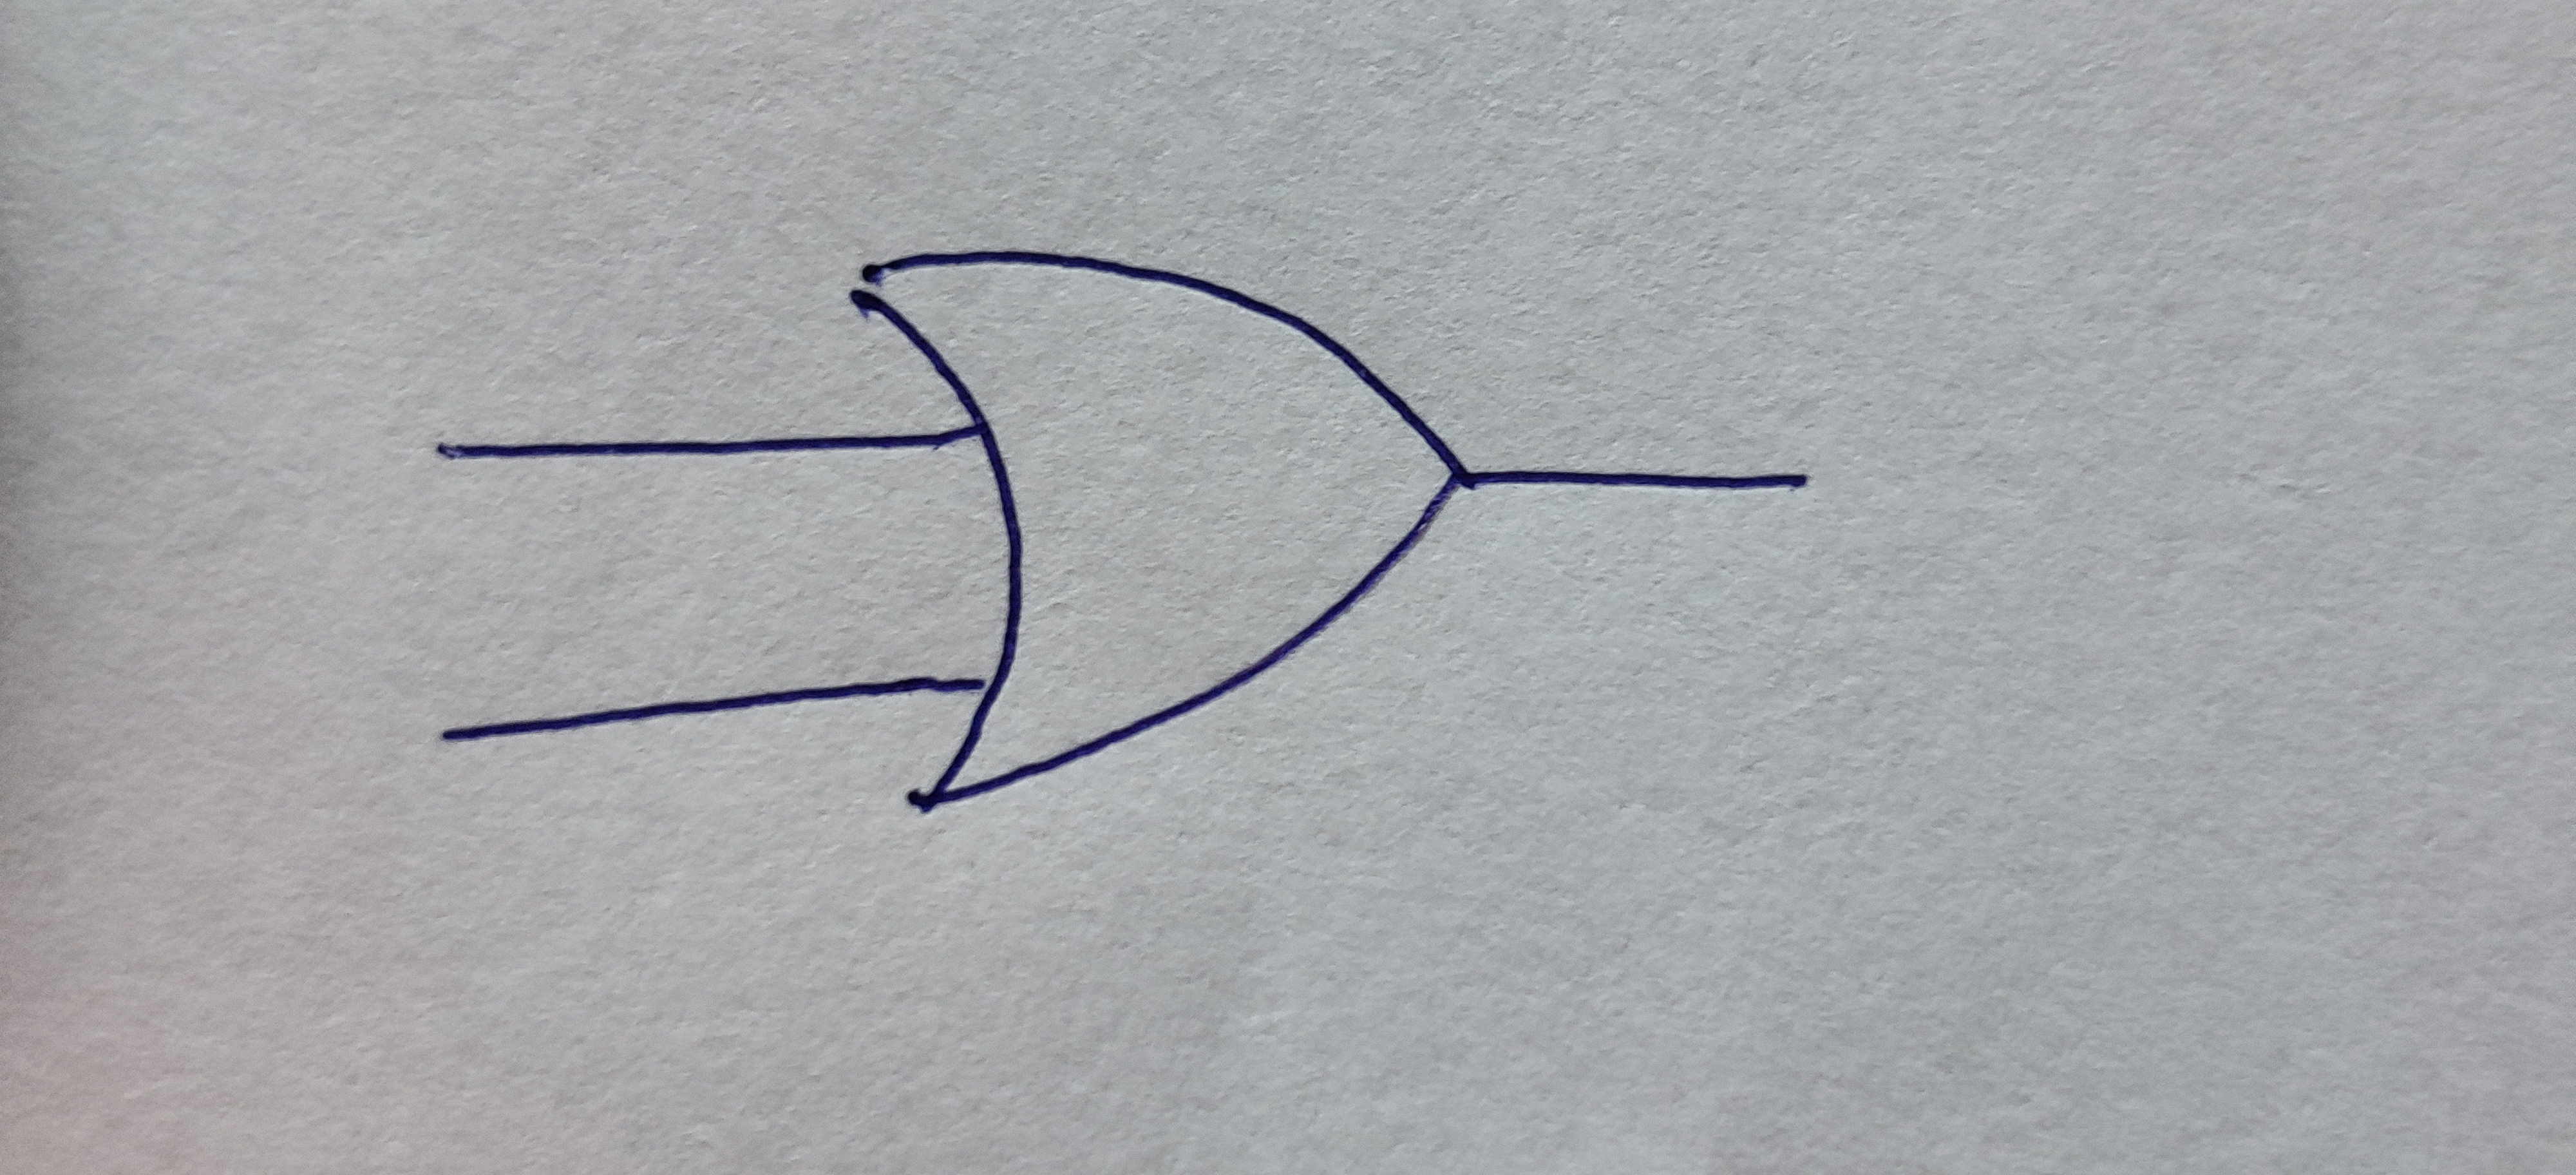or: (861, 250, 1470, 809)
